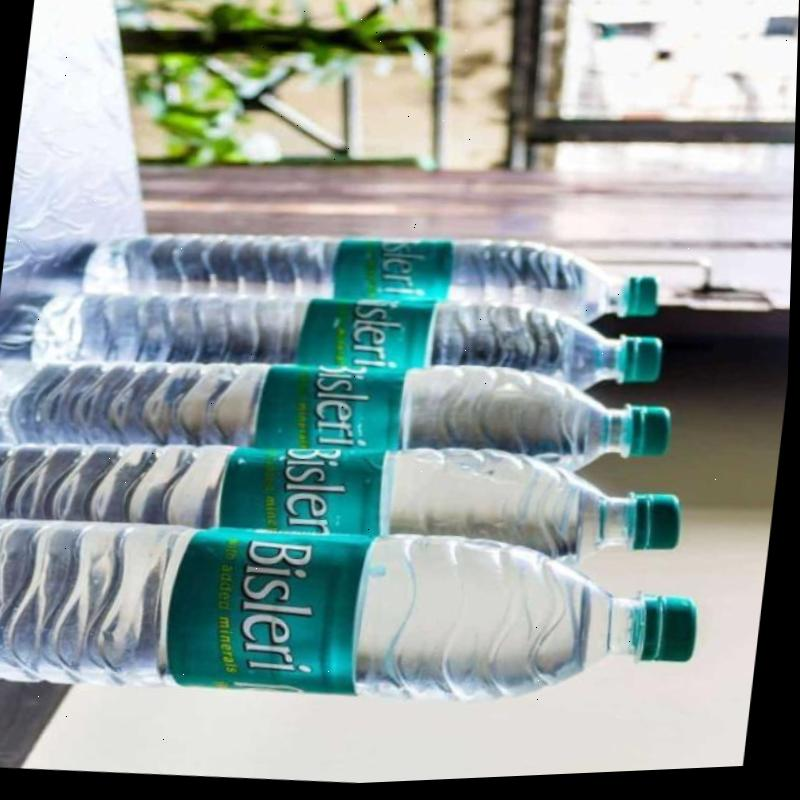botella: (0, 487, 713, 742), (0, 401, 691, 600), (0, 323, 677, 508), (27, 266, 671, 425), (77, 203, 664, 354)
